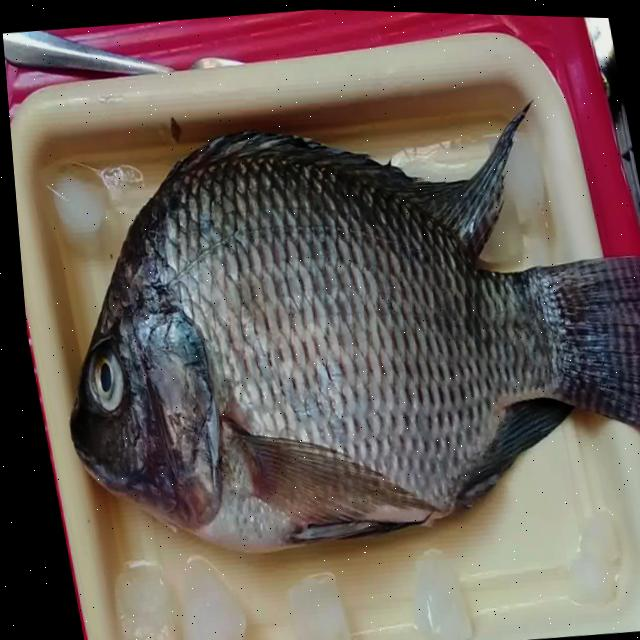Fresh: (97, 37, 640, 579), (64, 318, 129, 414)
